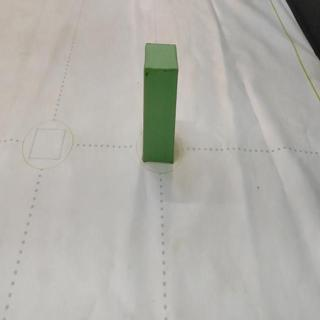greenbox: (140, 40, 180, 165)
